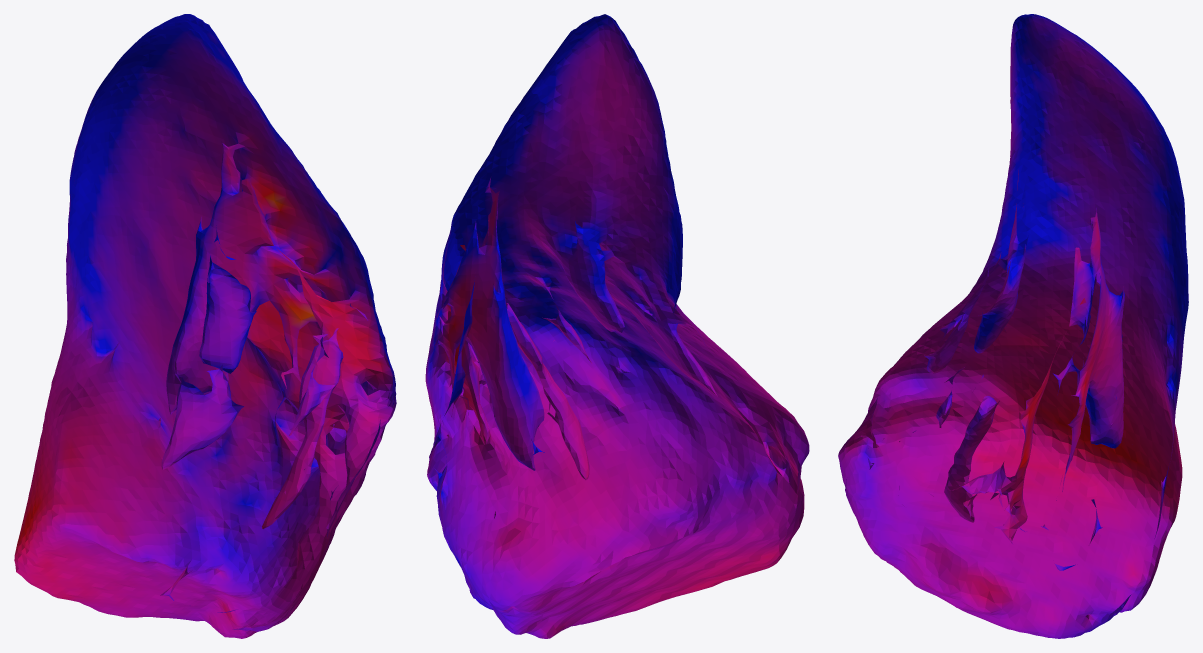
File: 83_SQZData_4-processed.glb
The picture shows the model from 3 angles, left to right: view 1: azimuth 30°, elevation 25°; view 2: azimuth 150°, elevation 25°; view 3: azimuth 270°, elevation 25°; orthographic projection. The views are drawn at different scales.
Parts seen in each view (by area): view 1: Renderer Node; view 2: Renderer Node; view 3: Renderer Node.
Part boxes in pixels (left/top/right/bottom): Renderer Node: left=14, top=14, right=396, bottom=638; Renderer Node: left=425, top=14, right=809, bottom=638; Renderer Node: left=838, top=14, right=1188, bottom=638.
Size of the model in its own units: 36.95 by 59.83 by 32.38.
